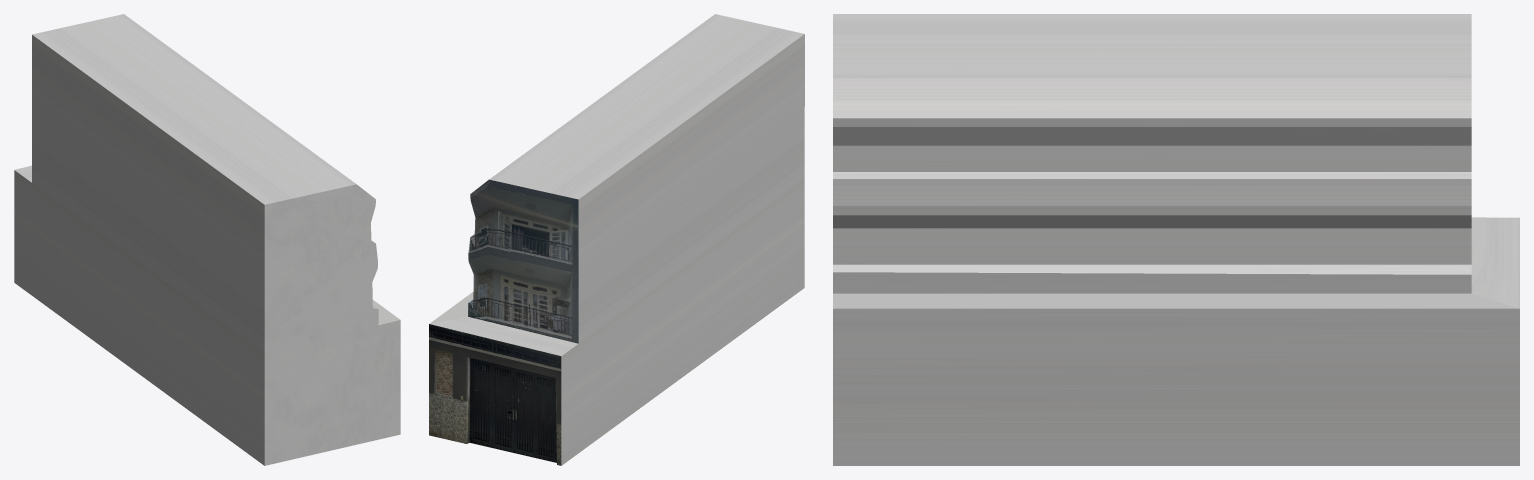
File: RefHouse11.fbx
3 renders of one model, left to right at view 1: azimuth 30°, elevation 25°; view 2: azimuth 150°, elevation 25°; view 3: azimuth 270°, elevation 25°, orthographic. The views are drawn at different scales.
Parts seen in each view (by area): view 1: ReferenceHouse11; view 2: ReferenceHouse11; view 3: ReferenceHouse11.
Part boxes in pixels (x1=…): ReferenceHouse11: x1=14, y1=14, x2=400, y2=465; ReferenceHouse11: x1=429, y1=14, x2=804, y2=465; ReferenceHouse11: x1=833, y1=14, x2=1519, y2=465.
Bounding box in the file's own units: 652 × 1203 × 2076.
Materials: 2 (2 with a texture image).
